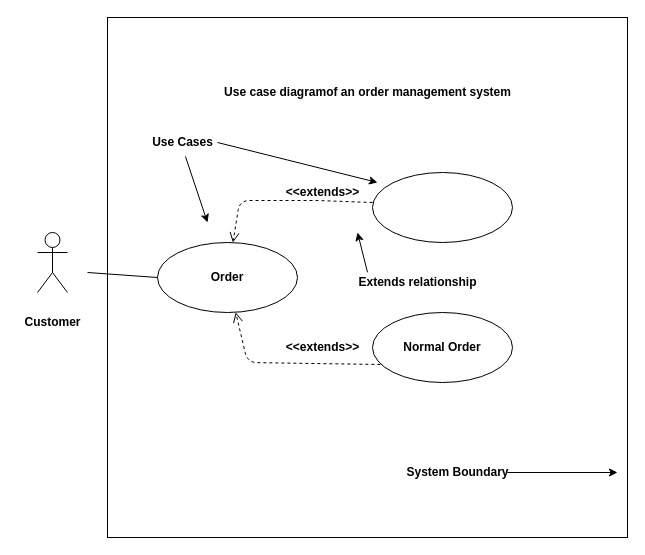
This 645x555 diagram has some shape labels left out. Here are the shapes that lost their labels. From the top down, the box of each, then its label:
(372, 172, 512, 242): Special Order
(36, 232, 68, 292): Actor
